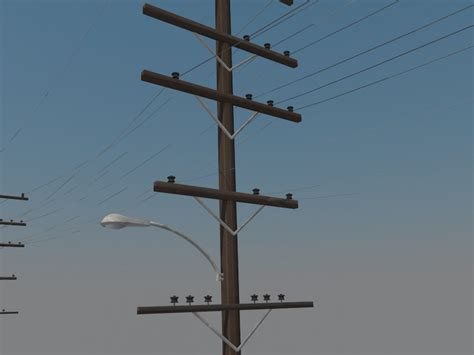pole: (133, 6, 319, 349)
